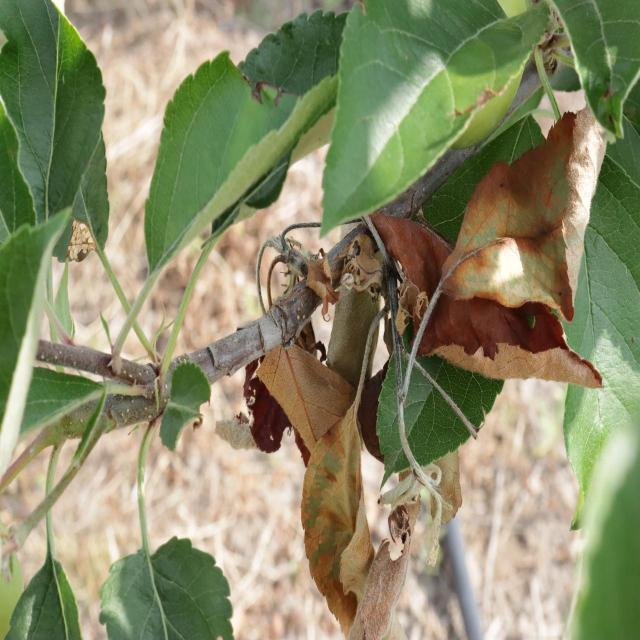-FireBlight-: (338, 115, 612, 391), (242, 330, 404, 637)
